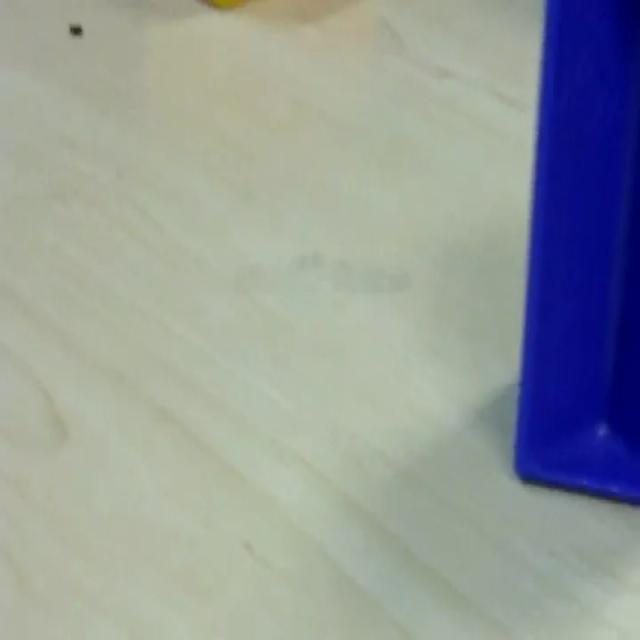blue_block: (512, 0, 638, 504)
